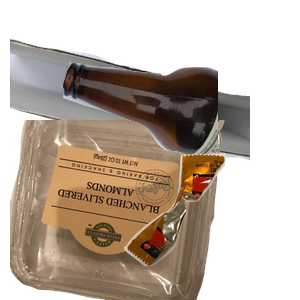cardboard: (10, 35, 250, 188)
glass: (60, 59, 300, 217)
plastic: (10, 120, 227, 300)
trash: (122, 151, 300, 300)
